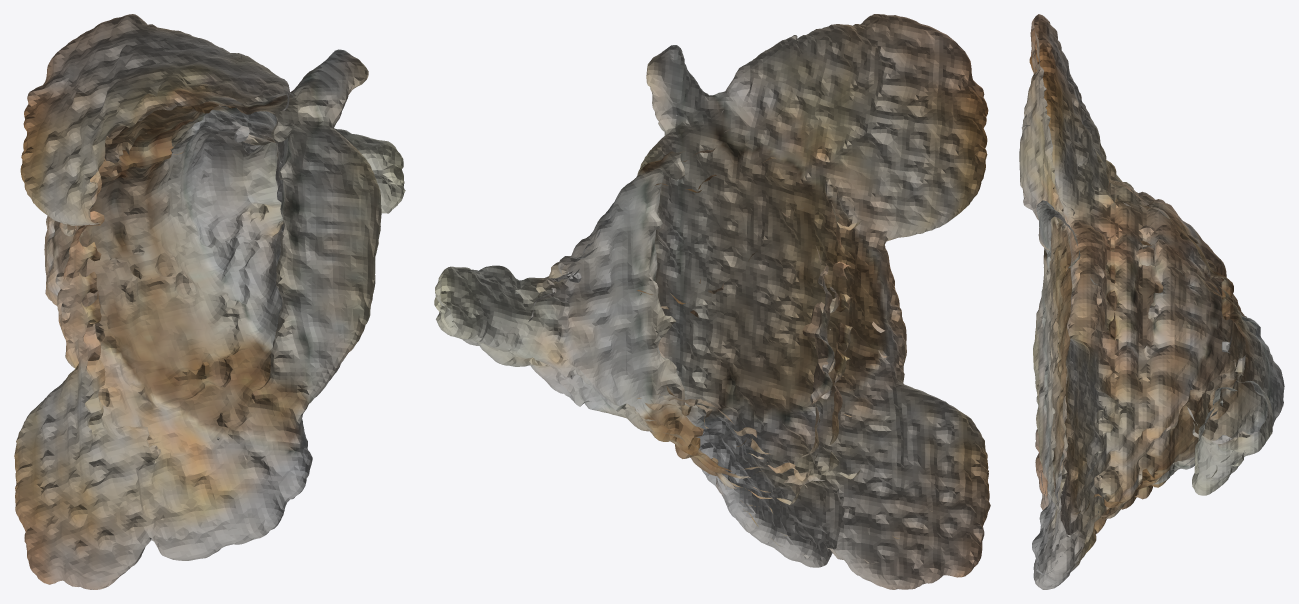
The picture shows the model from 3 angles, left to right: view 1: azimuth 30°, elevation 25°; view 2: azimuth 150°, elevation 25°; view 3: azimuth 270°, elevation 25°; orthographic projection. The views are drawn at different scales.
Parts seen in each view (by area): view 1: world; view 2: world; view 3: world.
Part boxes in pixels (<box>): world: <box>14,14,405,589</box>; world: <box>434,14,990,589</box>; world: <box>1019,14,1284,589</box>.
Bounding box in the file's own units: 0.8416 × 0.9749 × 0.4531.
